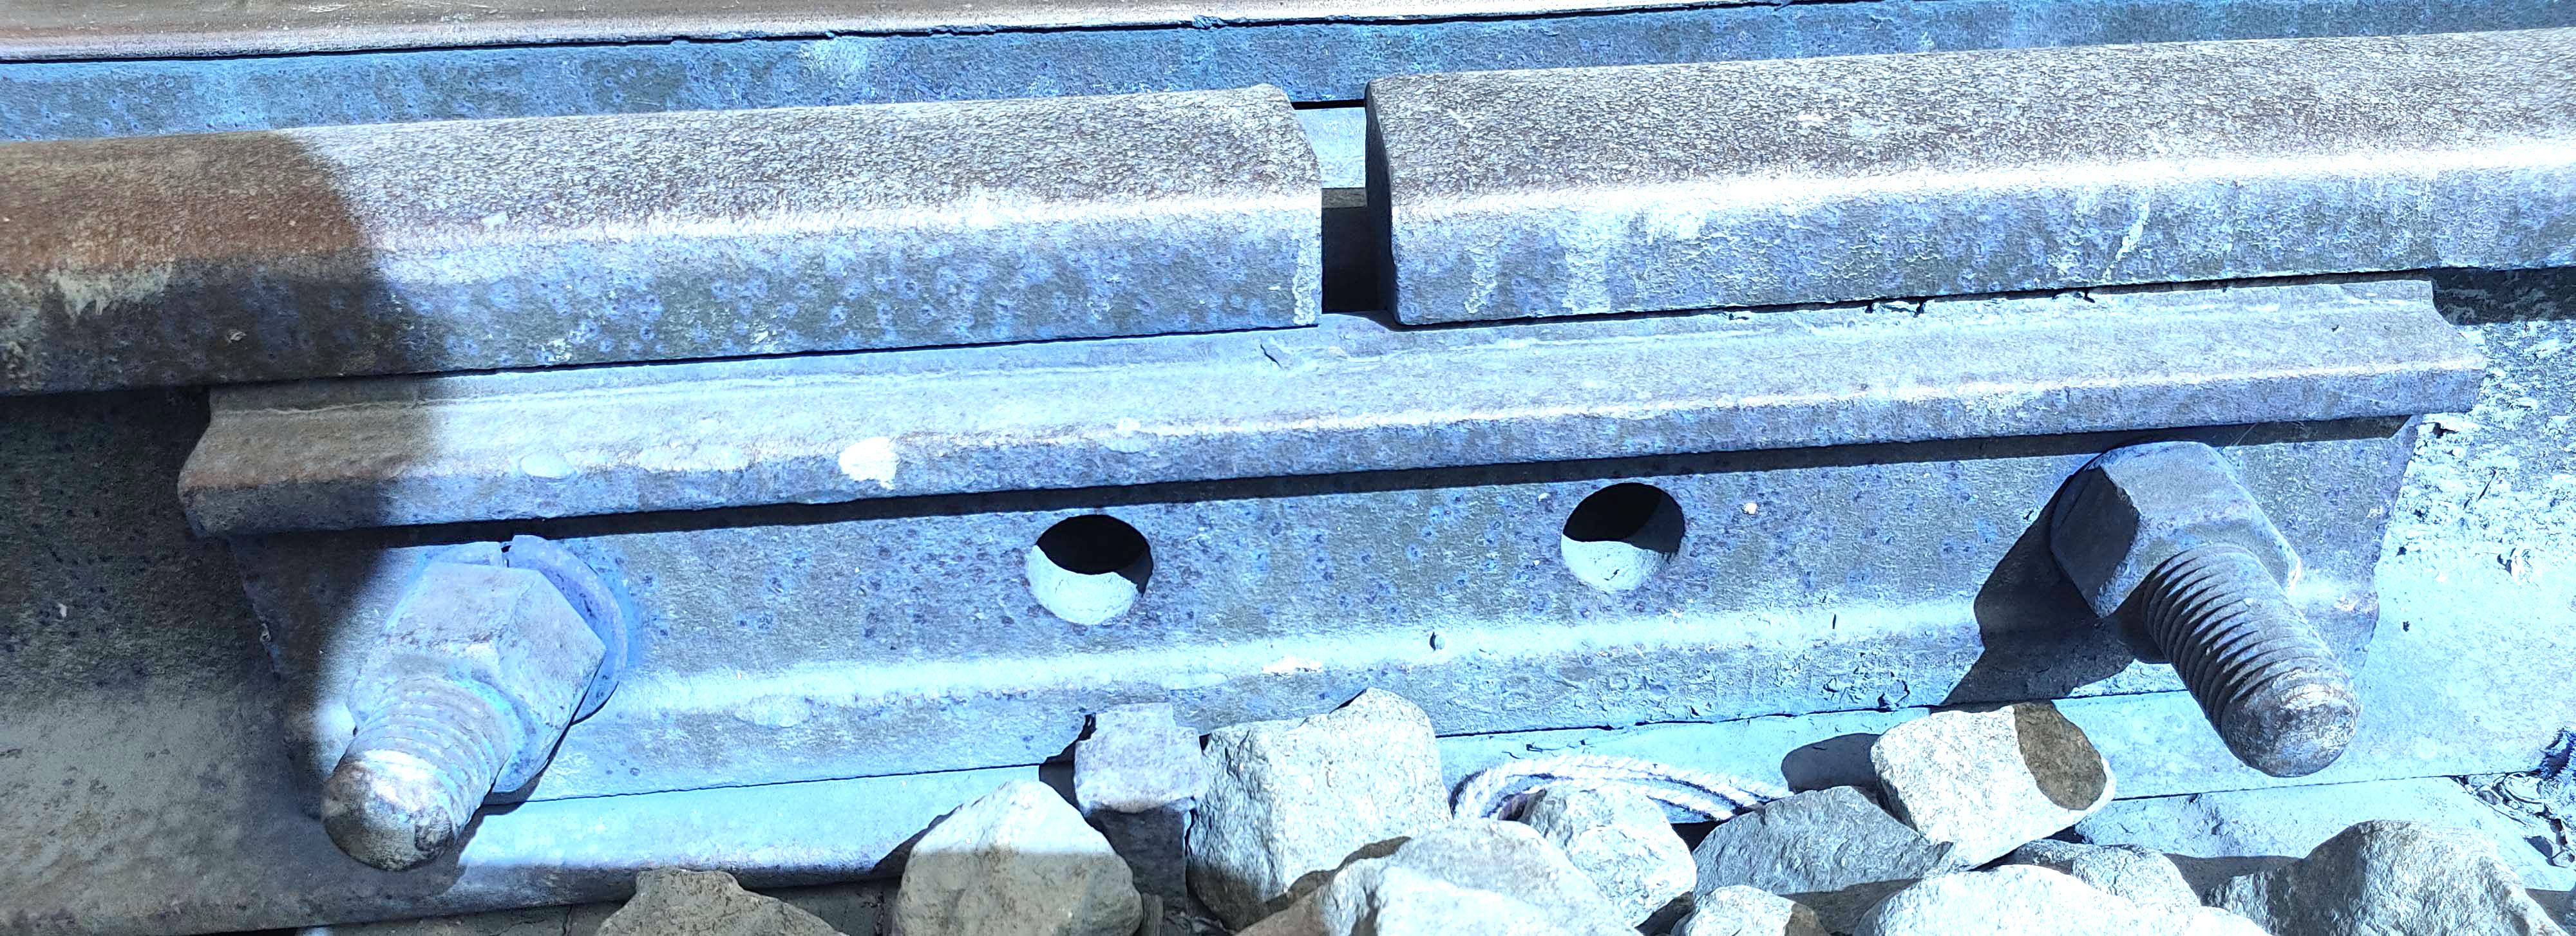error2: (1230, 20, 1557, 323)
